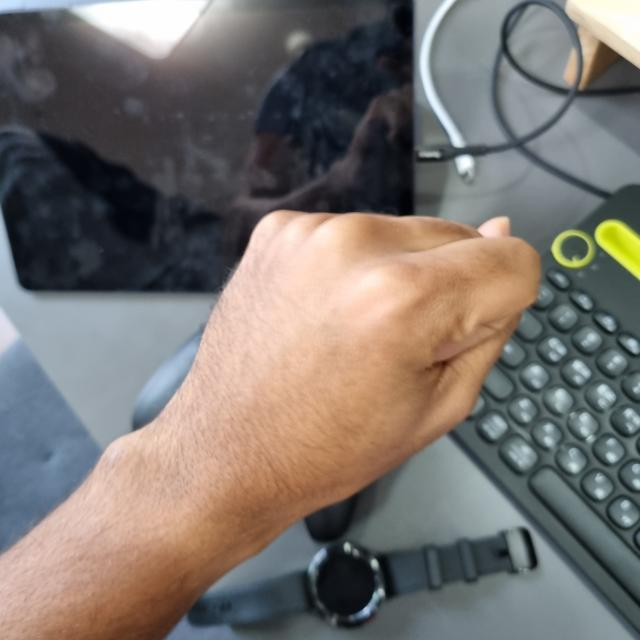Rock: (170, 213, 535, 518)
